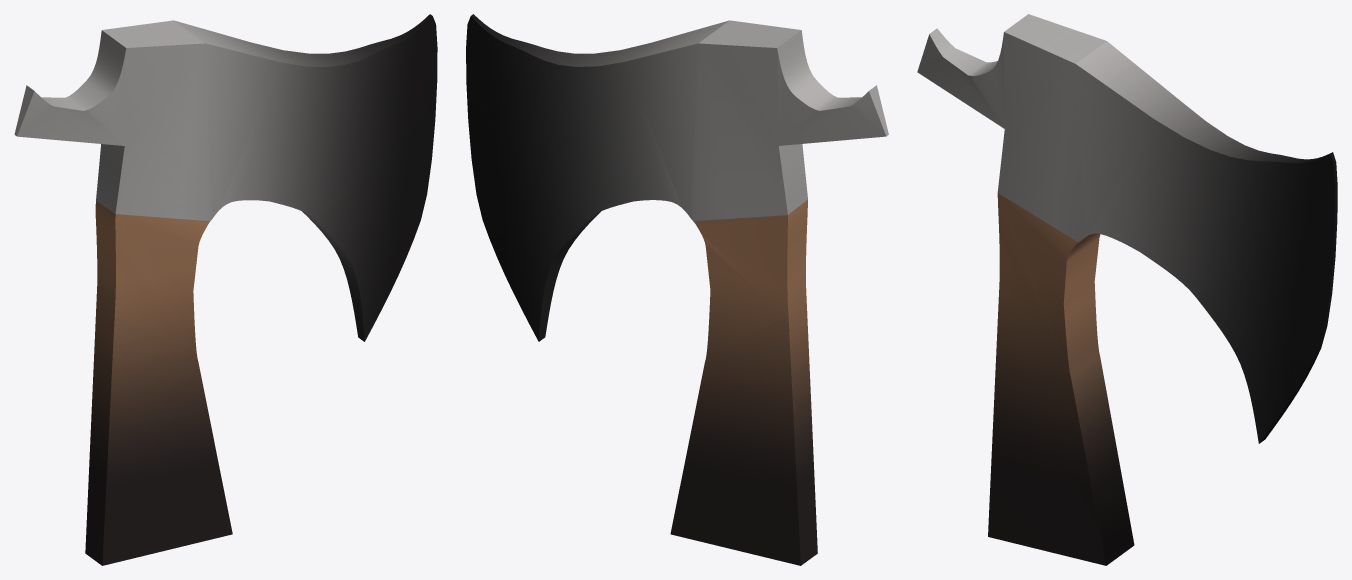
The model's file is Brake_Axe_Master.FBX.
3 renders of one model, left to right at view 1: azimuth 30°, elevation 25°; view 2: azimuth 150°, elevation 25°; view 3: azimuth 330°, elevation 25°, orthographic.
Visible parts, largest first — view 1: Axe_Part_2, Axe_Part_1; view 2: Axe_Part_2, Axe_Part_1; view 3: Axe_Part_2, Axe_Part_1.
Part boxes in pixels (<box>): Axe_Part_2: <box>14,14,437,353</box>; Axe_Part_1: <box>85,303,232,565</box>; Axe_Part_2: <box>466,14,888,354</box>; Axe_Part_1: <box>670,303,817,565</box>; Axe_Part_2: <box>917,14,1337,443</box>; Axe_Part_1: <box>988,294,1134,565</box>.
Bounding box in the file's own units: 10.17 × 11.92 × 1.43.
Materials: 1 (1 with a texture image).
